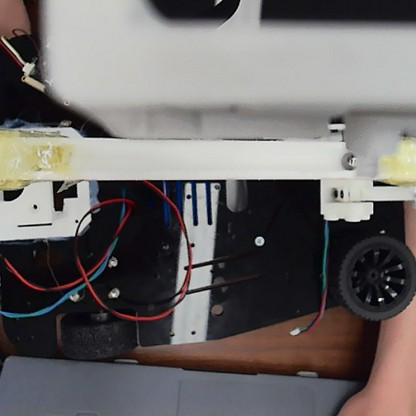ironball: (341, 150, 357, 170)
